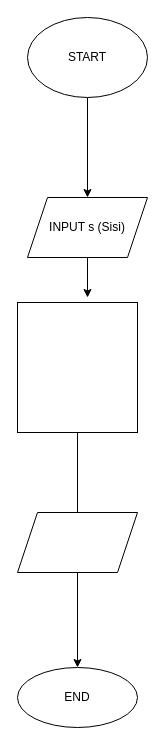
Image size: 165x745. Some labels were removed from this diagram. Here are the shapes that lost their labels. From the top down, the centre of each, then its label:
[77,367]: 6 * s * s
[77,542]: Output Hasil
